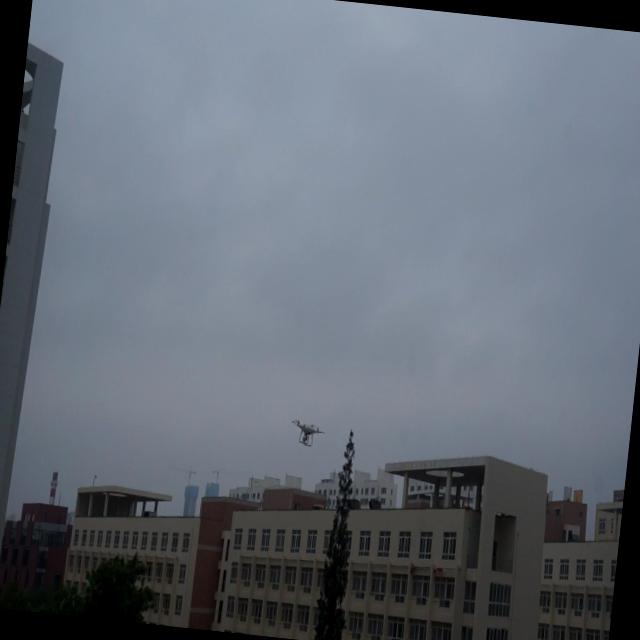drone: (289, 417, 324, 448)
